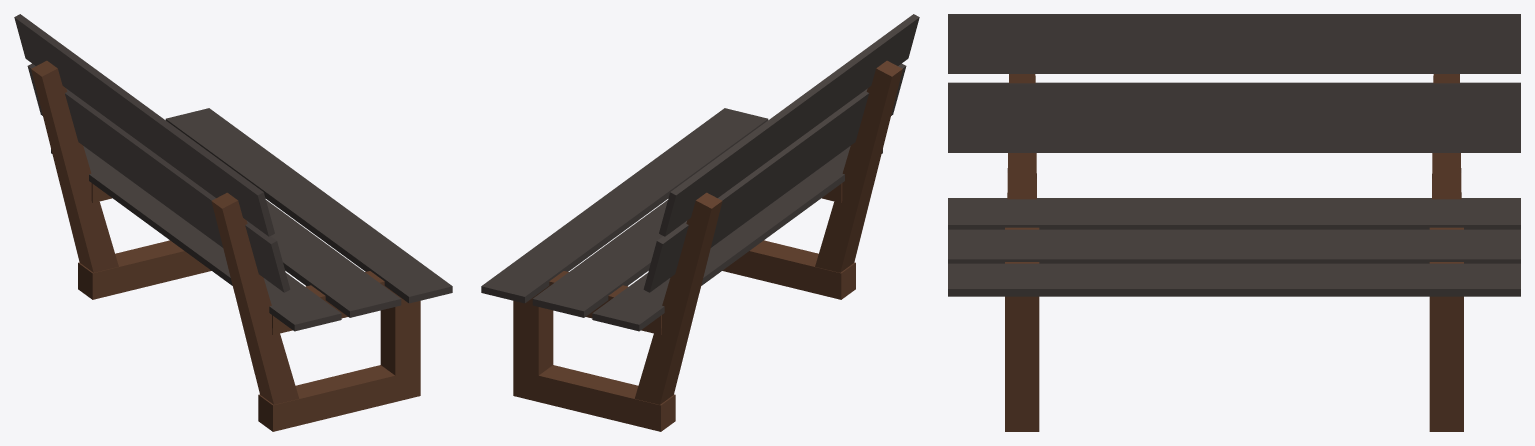
File: bench_v1.fbx
3 renders of one model, left to right at view 1: azimuth 30°, elevation 25°; view 2: azimuth 150°, elevation 25°; view 3: azimuth 270°, elevation 25°, orthographic. The views are drawn at different scales.
Parts seen in each view (by area): view 1: bench.001; view 2: bench.001; view 3: bench.001.
Boxes of the visible parts, left/top/right/bottom form: bench.001: left=14, top=14, right=452, bottom=431; bench.001: left=481, top=14, right=919, bottom=431; bench.001: left=948, top=14, right=1520, bottom=431.
Size of the model in its own units: 114 by 142 by 235.
